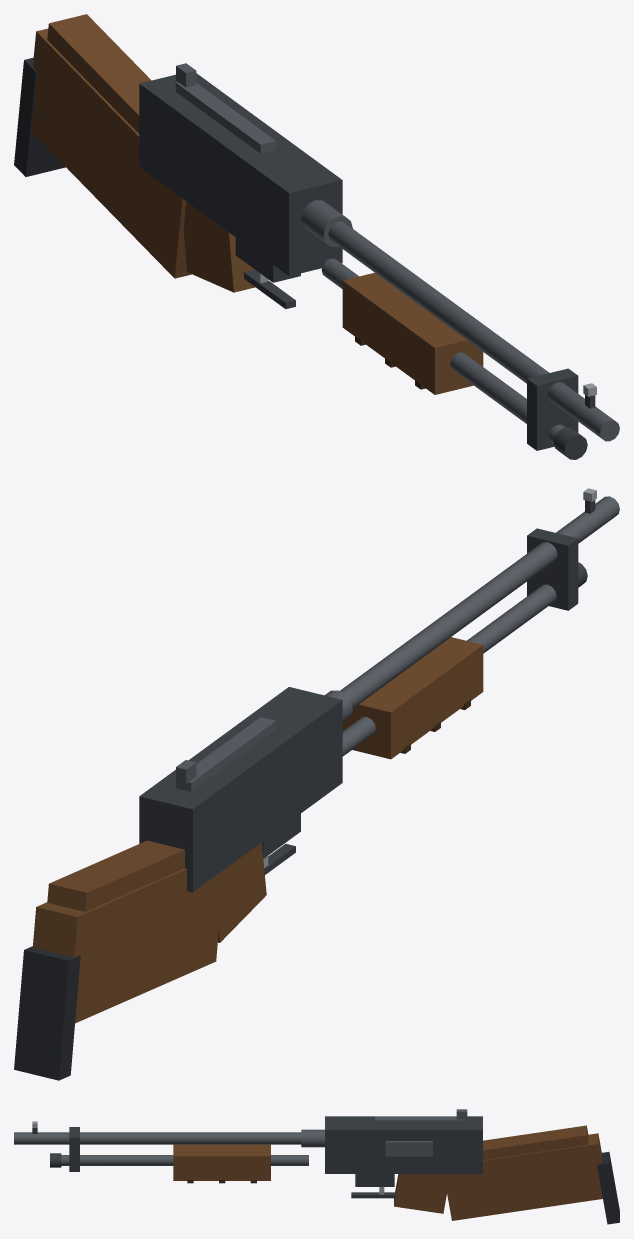
Rendered from Remington870.gltf.
3 renders of one model, top to bottom at view 1: azimuth 30°, elevation 25°; view 2: azimuth 150°, elevation 25°; view 3: azimuth 270°, elevation 25°, orthographic. The views are drawn at different scales.
Visible parts, largest first — view 1: Remington870Receiver, Remington870Stock, Remington870PumpForend, Remington870Barrel, Remington870Comb, Remington870Grip, Remington870MagazineTube, Remington870BarrelBand, Remington870ButtPlate, Remington870TopRail, Remington870BarrelShank, Remington870TriggerHousing (+2 smaller); view 2: Remington870Receiver, Remington870Stock, Remington870PumpForend, Remington870ButtPlate, Remington870Barrel, Remington870Comb, Remington870Grip, Remington870MagazineTube, Remington870BarrelBand, Remington870TopRail; view 3: Remington870Stock, Remington870Receiver, Remington870PumpForend, Remington870Barrel, Remington870Comb, Remington870Grip, Remington870MagazineTube, Remington870ButtPlate, Remington870TopRail, Remington870EjectionPort, Remington870TriggerHousing, Remington870BarrelBand (+2 smaller).
Boxes of the visible parts, x1,y1,x2,y2 form: Remington870Receiver: [139, 73, 342, 276]; Remington870Stock: [32, 28, 191, 278]; Remington870PumpForend: [342, 272, 483, 394]; Remington870Barrel: [328, 221, 619, 441]; Remington870Comb: [47, 14, 151, 133]; Remington870Grip: [183, 201, 255, 292]; Remington870MagazineTube: [321, 258, 564, 443]; Remington870BarrelBand: [527, 368, 578, 450]; Remington870ButtPlate: [14, 57, 65, 176]; Remington870TopRail: [175, 82, 275, 153]; Remington870BarrelShank: [301, 200, 352, 247]; Remington870TriggerHousing: [235, 237, 300, 282]; Remington870Receiver: [139, 687, 342, 892]; Remington870Stock: [33, 868, 223, 1023]; Remington870PumpForend: [342, 637, 483, 759]; Remington870ButtPlate: [14, 946, 80, 1080]; Remington870Barrel: [340, 496, 619, 708]; Remington870Comb: [47, 840, 184, 911]; Remington870Grip: [218, 842, 266, 942]; Remington870MagazineTube: [342, 584, 556, 756]; Remington870BarrelBand: [527, 528, 578, 610]; Remington870TopRail: [175, 717, 275, 791]; Remington870Stock: [443, 1133, 602, 1220]; Remington870Receiver: [325, 1116, 482, 1173]; Remington870PumpForend: [173, 1144, 270, 1180]; Remington870Barrel: [14, 1132, 301, 1144]; Remington870Comb: [483, 1125, 588, 1159]; Remington870Grip: [394, 1174, 446, 1213]; Remington870MagazineTube: [61, 1155, 308, 1165]; Remington870ButtPlate: [597, 1152, 619, 1224]; Remington870TopRail: [375, 1116, 464, 1125]; Remington870EjectionPort: [385, 1141, 432, 1156]; Remington870TriggerHousing: [355, 1174, 394, 1186]; Remington870BarrelBand: [69, 1127, 79, 1171].
Bounding box in the file's own units: 0.067 × 0.2261 × 1.15.
